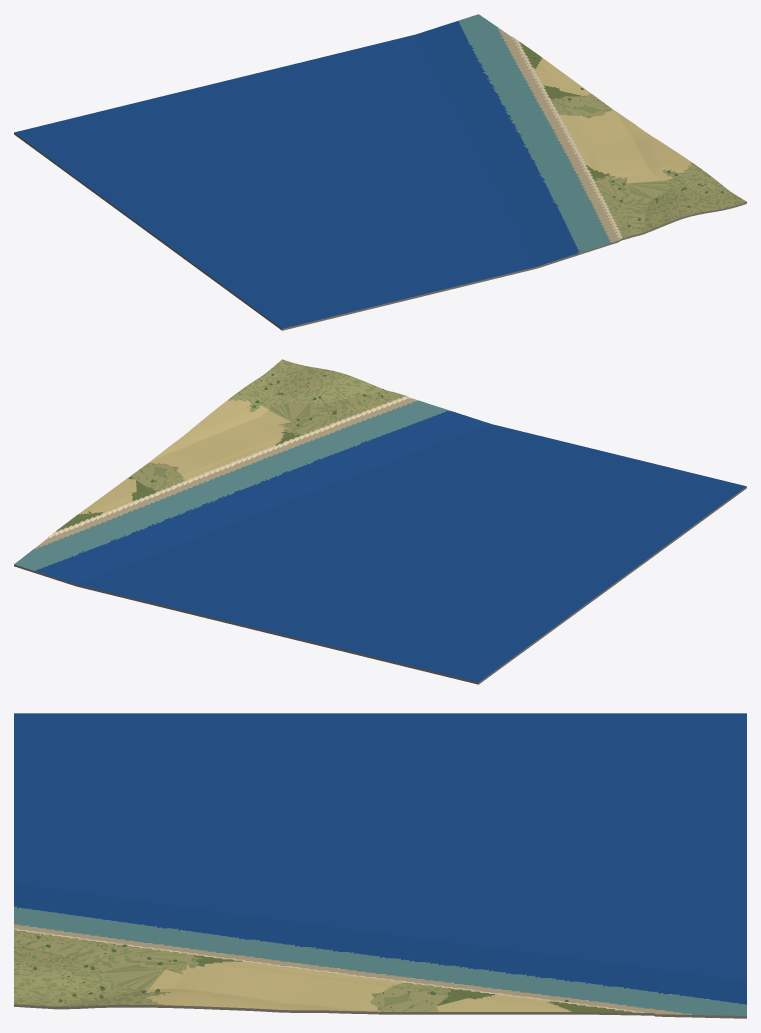
File: parca_-4_-3-yakin.glb
The picture shows the model from 3 angles, top to bottom: view 1: azimuth 30°, elevation 25°; view 2: azimuth 150°, elevation 25°; view 3: azimuth 270°, elevation 25°; orthographic projection. The views are drawn at different scales.
Parts seen in each view (by area): view 1: parca_-4_-3_arazi; view 2: parca_-4_-3_arazi; view 3: parca_-4_-3_arazi, parca_-4_-3_bitkiler.
Boxes of the visible parts, x1=… form: parca_-4_-3_arazi: x1=14, y1=14, x2=746, y2=330; parca_-4_-3_arazi: x1=14, y1=359, x2=746, y2=684; parca_-4_-3_arazi: x1=14, y1=713, x2=746, y2=1018; parca_-4_-3_bitkiler: x1=14, y1=935, x2=585, y2=1009.
Bounding box in the file's own units: 1000 × 38.38 × 1000.
